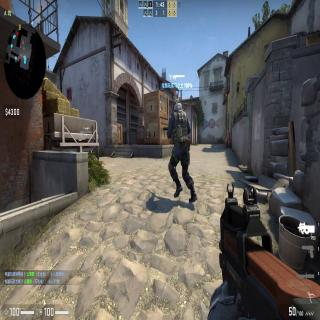CT-Body: (166, 98, 198, 206)
CT-Head: (171, 99, 183, 113)
